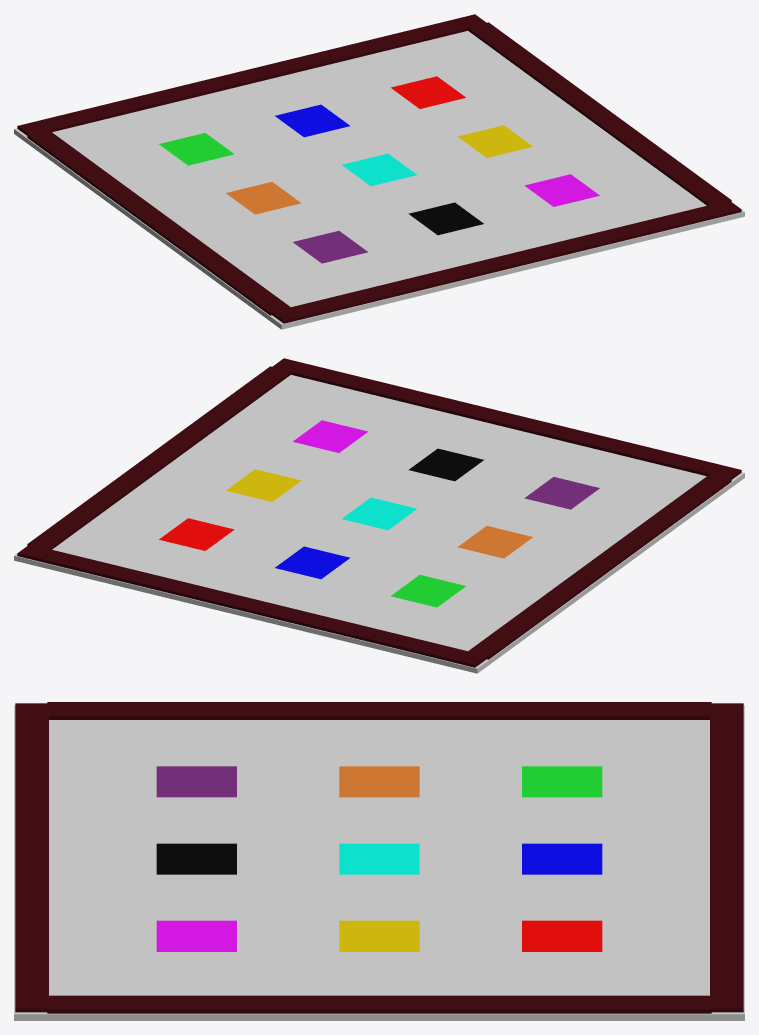
3 renders of one model, top to bottom at view 1: azimuth 30°, elevation 25°; view 2: azimuth 150°, elevation 25°; view 3: azimuth 270°, elevation 25°, orthographic. The views are drawn at different scales.
Parts seen in each view (by area): view 1: Cube, Cube.011, Cube.010, Cube.012, Cube.013, Cube.007, Cube.004, Cube.009, Cube.005, Cube.002, Cube.008, Cube.003 (+2 smaller); view 2: Cube, Cube.010, Cube.011, Cube.012, Cube.013, Cube.007, Cube.001, Cube.009, Cube.006, Cube.003, Cube.008, Cube.004 (+2 smaller); view 3: Cube, Cube.013, Cube.012, Cube.010, Cube.011, Cube.009, Cube.008, Cube.007, Cube.006, Cube.005, Cube.004, Cube.003 (+2 smaller).
Boxes of the visible parts, left/top/right/bottom form: Cube: left=14, top=31, right=744, bottom=329; Cube.011: left=272, top=200, right=741, bottom=323; Cube.010: left=17, top=14, right=486, bottom=135; Cube.012: left=27, top=130, right=290, bottom=315; Cube.013: left=467, top=22, right=731, bottom=205; Cube.007: left=342, top=153, right=416, bottom=186; Cube.004: left=159, top=133, right=234, bottom=165; Cube.009: left=457, top=125, right=532, bottom=157; Cube.005: left=524, top=174, right=599, bottom=206; Cube.002: left=408, top=202, right=483, bottom=235; Cube.008: left=226, top=182, right=301, bottom=214; Cube.003: left=275, top=104, right=349, bottom=137; Cube: left=14, top=375, right=744, bottom=673; Cube.010: left=17, top=545, right=486, bottom=667; Cube.011: left=272, top=358, right=741, bottom=479; Cube.012: left=468, top=474, right=731, bottom=659; Cube.013: left=27, top=366, right=291, bottom=549; Cube.007: left=342, top=497, right=416, bottom=530; Cube.001: left=524, top=477, right=599, bottom=509; Cube.009: left=226, top=469, right=301, bottom=501; Cube.006: left=159, top=518, right=234, bottom=550; Cube.003: left=275, top=546, right=350, bottom=579; Cube.008: left=457, top=526, right=532, bottom=558; Cube.004: left=391, top=575, right=465, bottom=607; Cube: left=14, top=705, right=744, bottom=1020; Cube.013: left=47, top=995, right=711, bottom=1013; Cube.012: left=47, top=702, right=711, bottom=719; Cube.010: left=710, top=703, right=743, bottom=1012; Cube.011: left=15, top=703, right=48, bottom=1012; Cube.009: left=339, top=920, right=419, bottom=951; Cube.008: left=339, top=766, right=419, bottom=797; Cube.007: left=339, top=843, right=419, bottom=874; Cube.006: left=522, top=920, right=602, bottom=951; Cube.005: left=156, top=920, right=236, bottom=951; Cube.004: left=522, top=766, right=602, bottom=797; Cube.003: left=522, top=843, right=602, bottom=874.
Bounding box in the file's own units: 20 × 20 × 0.3152.
